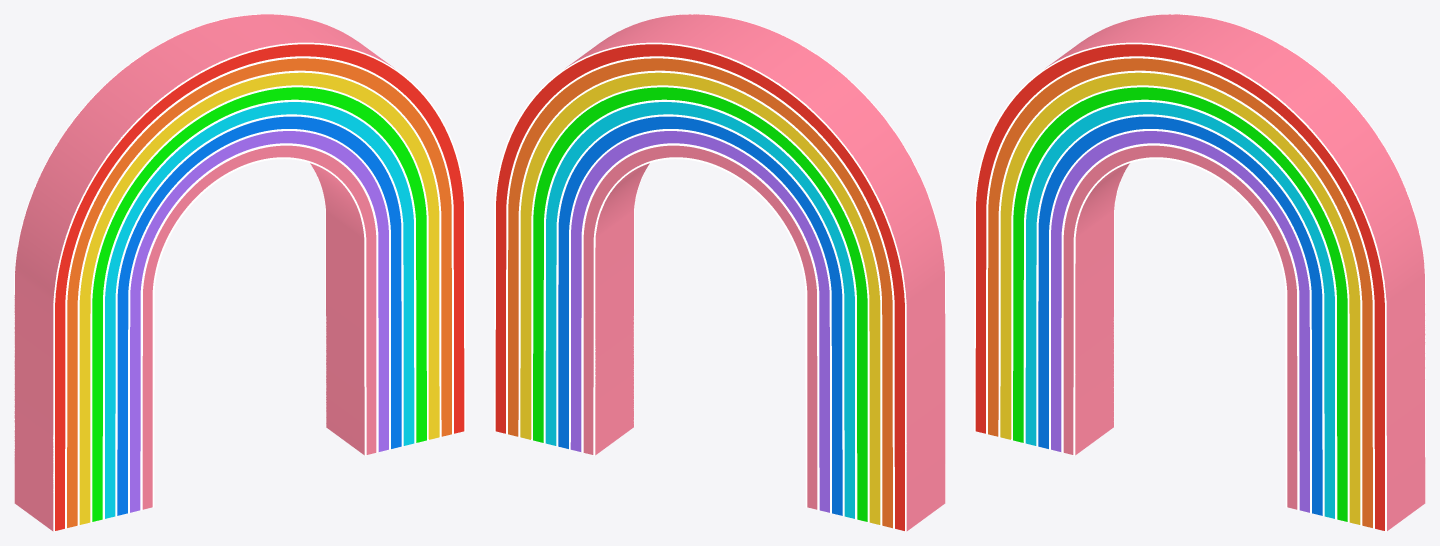
File: thickRainbow.glb
3 views of the same model, side by side, from view 1: azimuth 30°, elevation 25°; view 2: azimuth 150°, elevation 25°; view 3: azimuth 330°, elevation 25° (orthographic).
Visible parts, largest first — view 1: thickRainbow.004, outline; view 2: thickRainbow.004, outline; view 3: thickRainbow.004, outline.
Part boxes in pixels (bbox=[...]): thickRainbow.004: bbox=[14, 14, 464, 531]; outline: bbox=[14, 14, 465, 531]; thickRainbow.004: bbox=[495, 14, 945, 531]; outline: bbox=[494, 14, 945, 531]; thickRainbow.004: bbox=[975, 14, 1425, 530]; outline: bbox=[974, 14, 1425, 531].
Size of what is drawn, in the model's own units: 54.19 by 54.39 by 9.02.
Materials: 2 (1 with a texture image).
